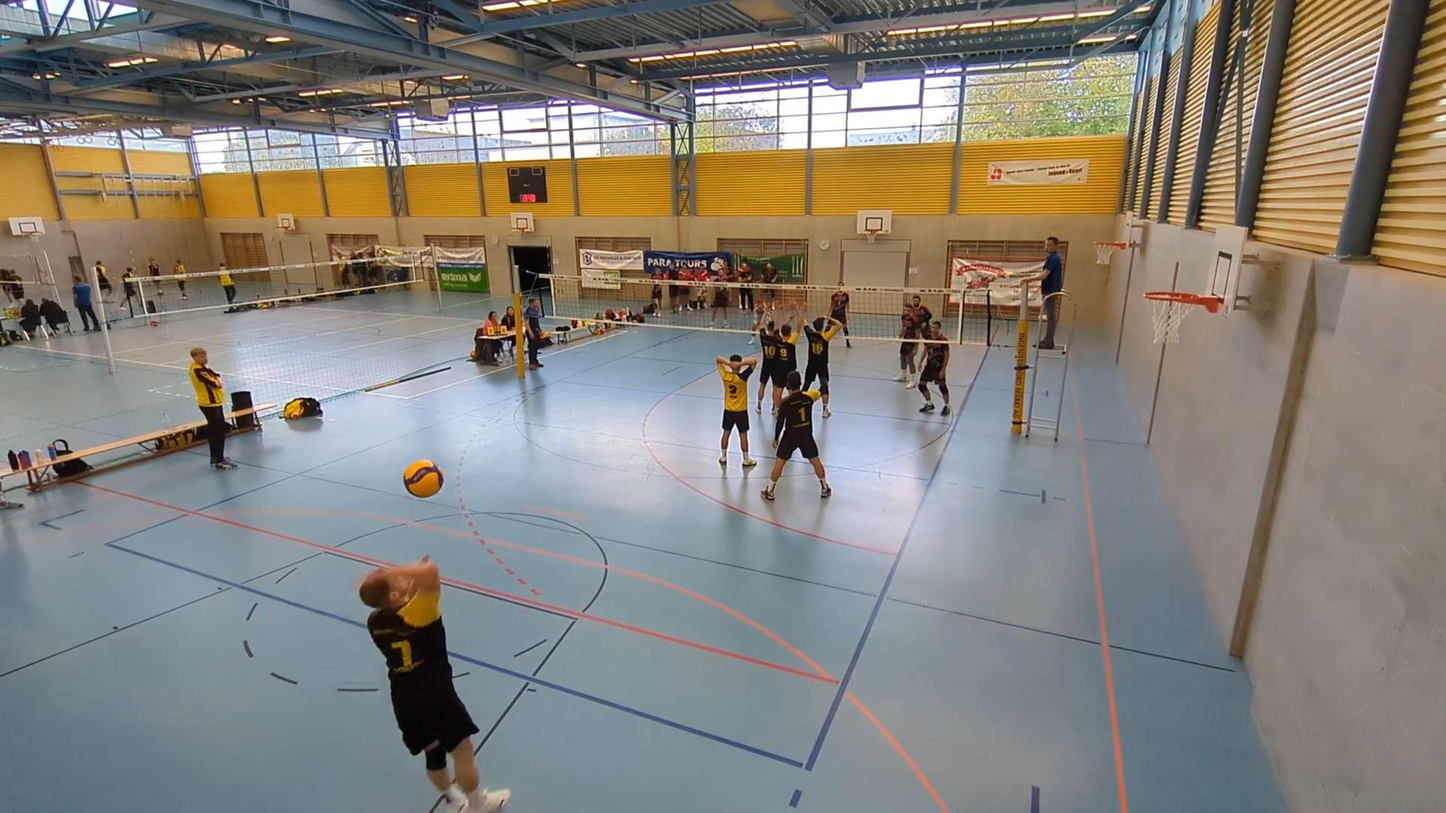battuta: (348, 554, 489, 808)
